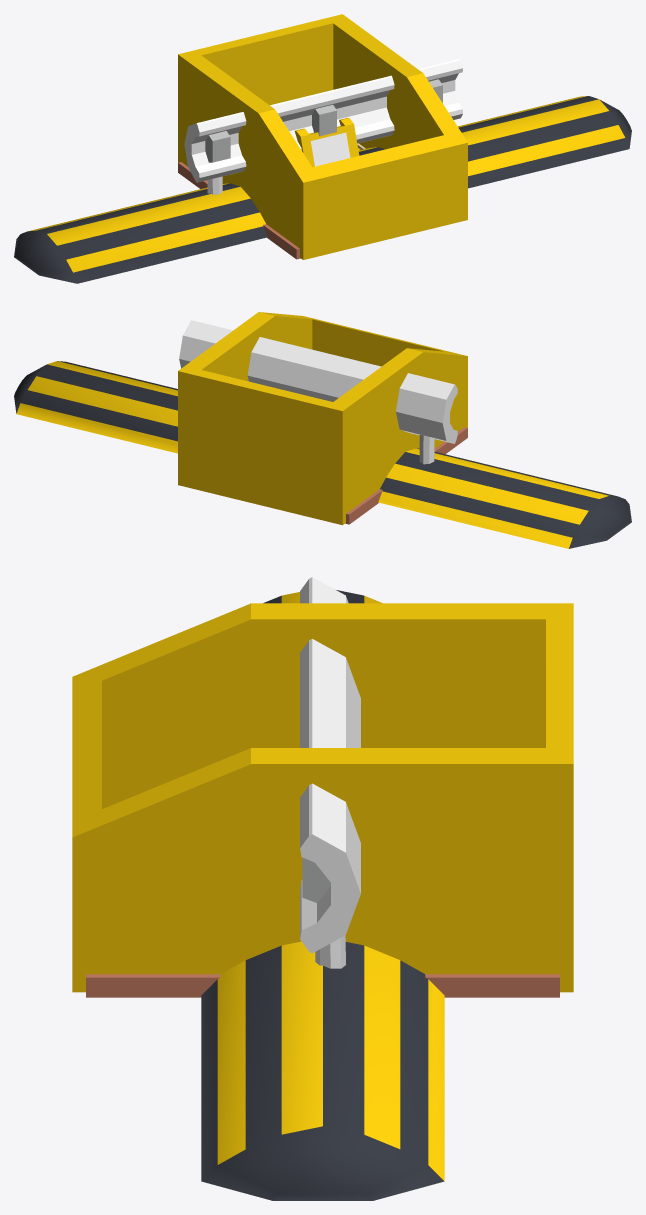
The model's file is Cenarios.fbx_Obstaculos.fbx.
3 renders of one model, top to bottom at view 1: azimuth 30°, elevation 25°; view 2: azimuth 150°, elevation 25°; view 3: azimuth 270°, elevation 25°, orthographic. The views are drawn at different scales.
Visible parts, largest first — view 1: casamba, Lombada, GuardaPista, PlacaAviso, Rampa; view 2: casamba, Lombada, GuardaPista, Rampa; view 3: casamba, Lombada, GuardaPista, Rampa.
Boxes of the visible parts, x1=… form: casamba: x1=178, y1=14, x2=467, y2=259; Lombada: x1=14, y1=96, x2=631, y2=283; GuardaPista: x1=184, y1=59, x2=462, y2=194; PlacaAviso: x1=294, y1=118, x2=359, y2=167; Rampa: x1=178, y1=143, x2=365, y2=259; casamba: x1=178, y1=312, x2=467, y2=525; Lombada: x1=14, y1=361, x2=631, y2=548; GuardaPista: x1=179, y1=320, x2=457, y2=464; Rampa: x1=345, y1=427, x2=467, y2=524; casamba: x1=72, y1=603, x2=573, y2=992; Lombada: x1=201, y1=590, x2=444, y2=1200; GuardaPista: x1=300, y1=577, x2=360, y2=968; Rampa: x1=86, y1=974, x2=559, y2=997.
Size of the model in its own units: 900 by 167 by 330.
